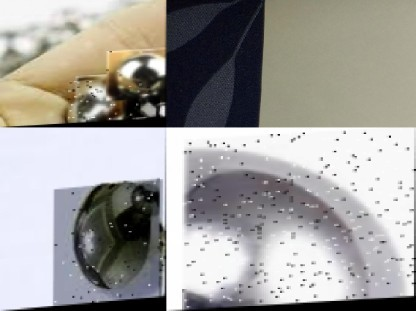ironball: (182, 129, 415, 310), (53, 183, 162, 307), (106, 49, 165, 102), (68, 79, 129, 124), (127, 97, 161, 121), (150, 263, 165, 290)
